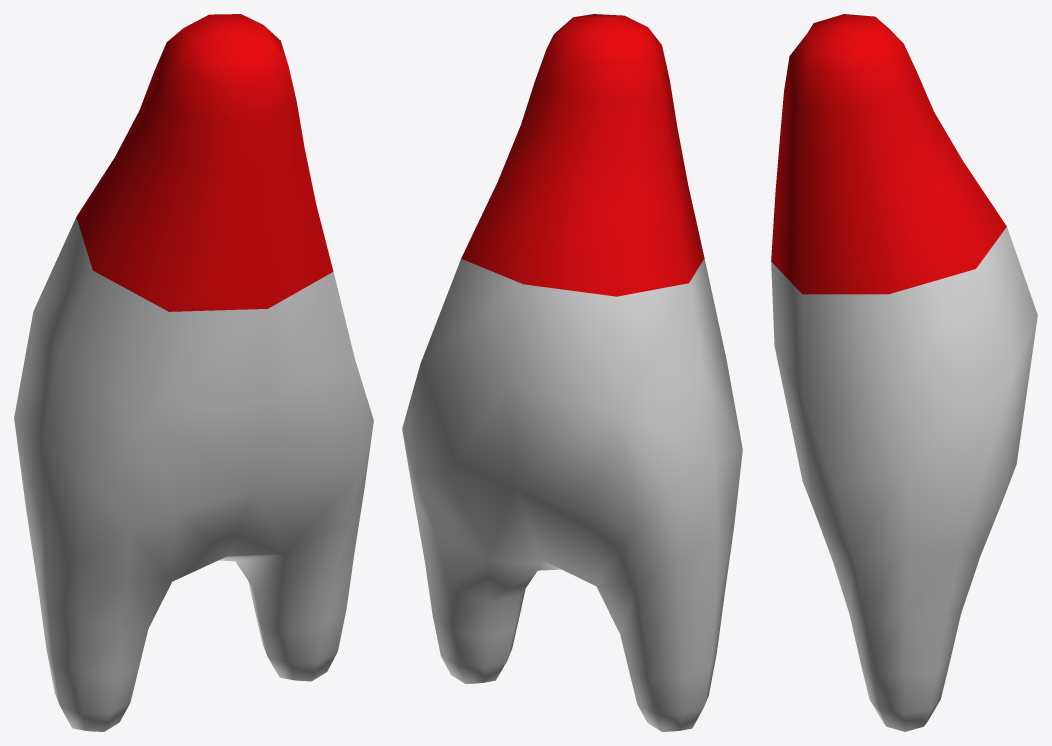
File: SmallGuy.fbx
3 renders of one model, left to right at view 1: azimuth 30°, elevation 25°; view 2: azimuth 150°, elevation 25°; view 3: azimuth 270°, elevation 25°, orthographic. The views are drawn at different scales.
Visible parts, largest first — view 1: Plane; view 2: Plane; view 3: Plane.
Boxes of the visible parts, <box> form: Plane: <box>14,14,373,731</box>; Plane: <box>402,14,742,731</box>; Plane: <box>771,14,1037,731</box>.
Size of the model in its own units: 89.64 by 198 by 72.46.
